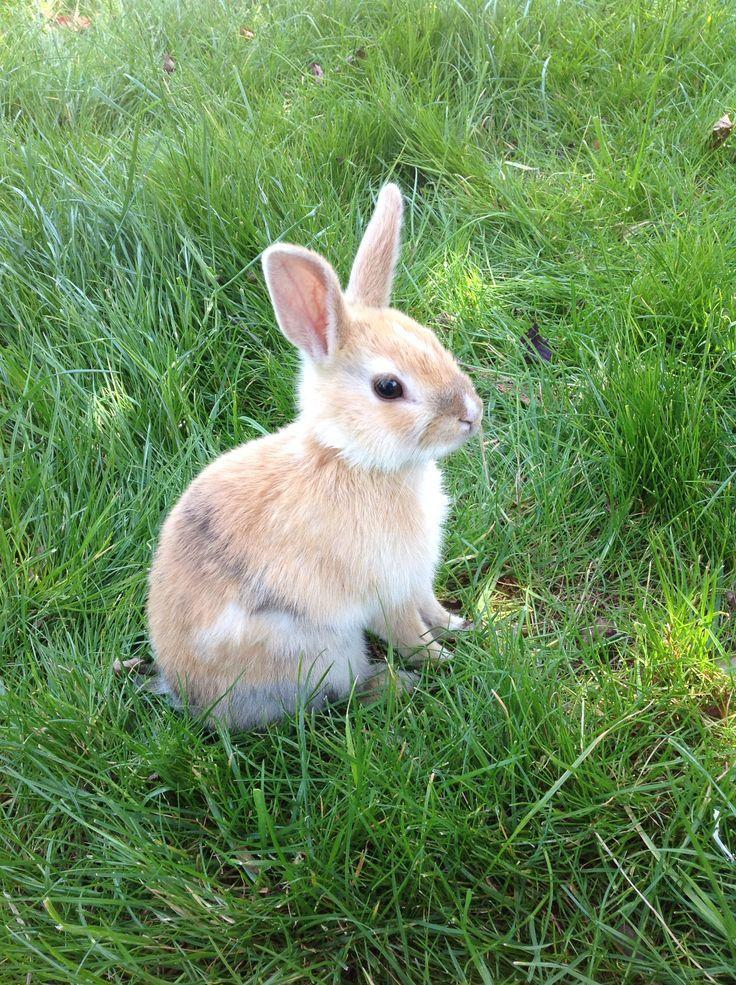rabbit: (148, 184, 481, 727)
